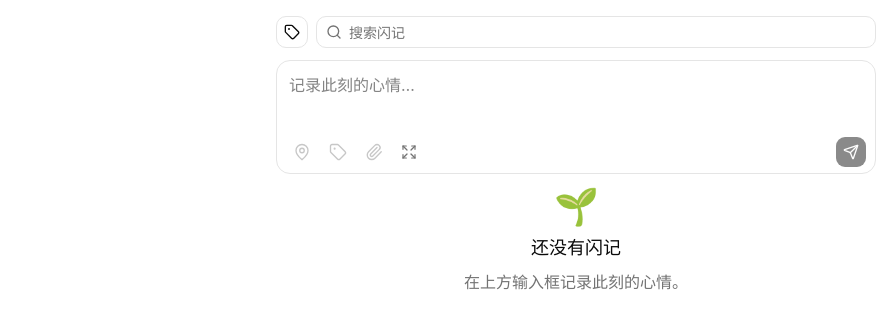
MomentList 标签筛选 › 通过筛选按钮选择标签后请求带 tag，并显示当前筛选 chip
Click the button named "按标签筛选".
click(292, 32)  # box [276,16,308,48]
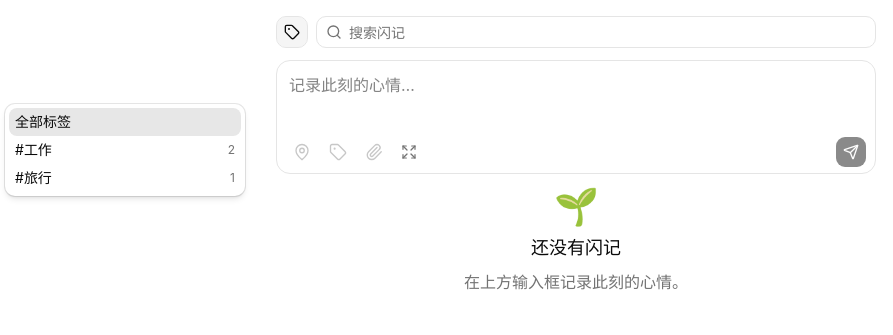
Click the text "#旅行".
click(33, 178)  # box [15,169,52,186]
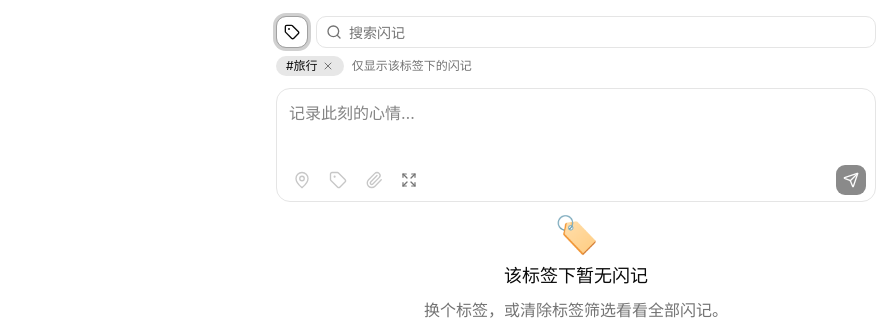
Expected: the text "仅显示该标签下的闪记" is shown, [352,58,472,74]
